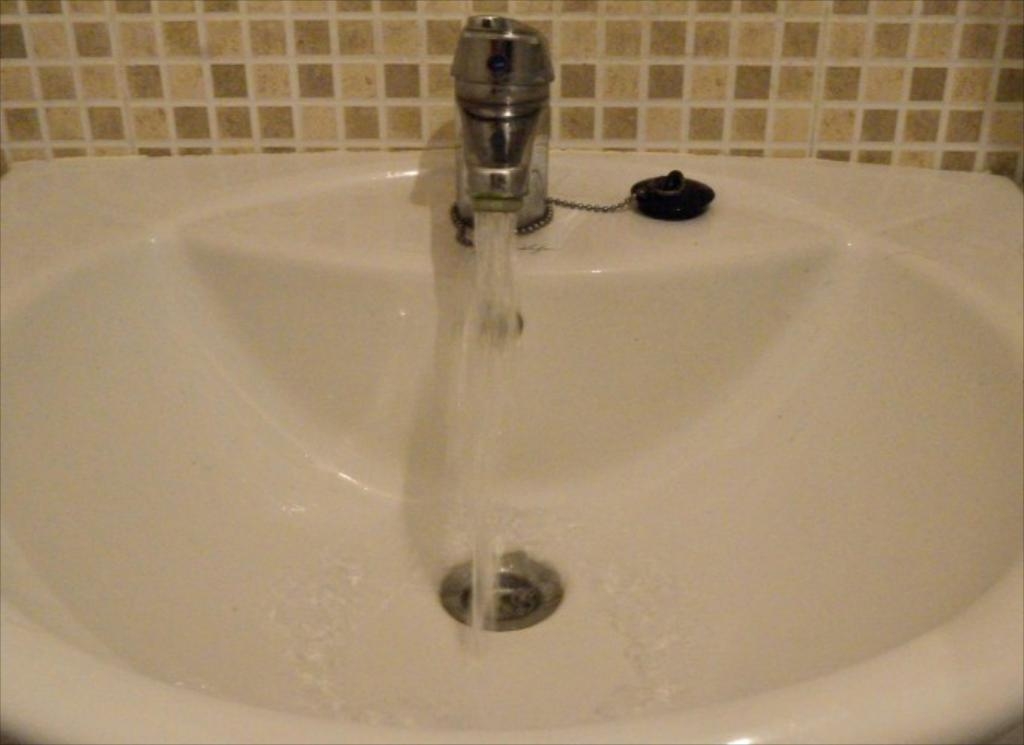tap: (453, 13, 557, 231)
